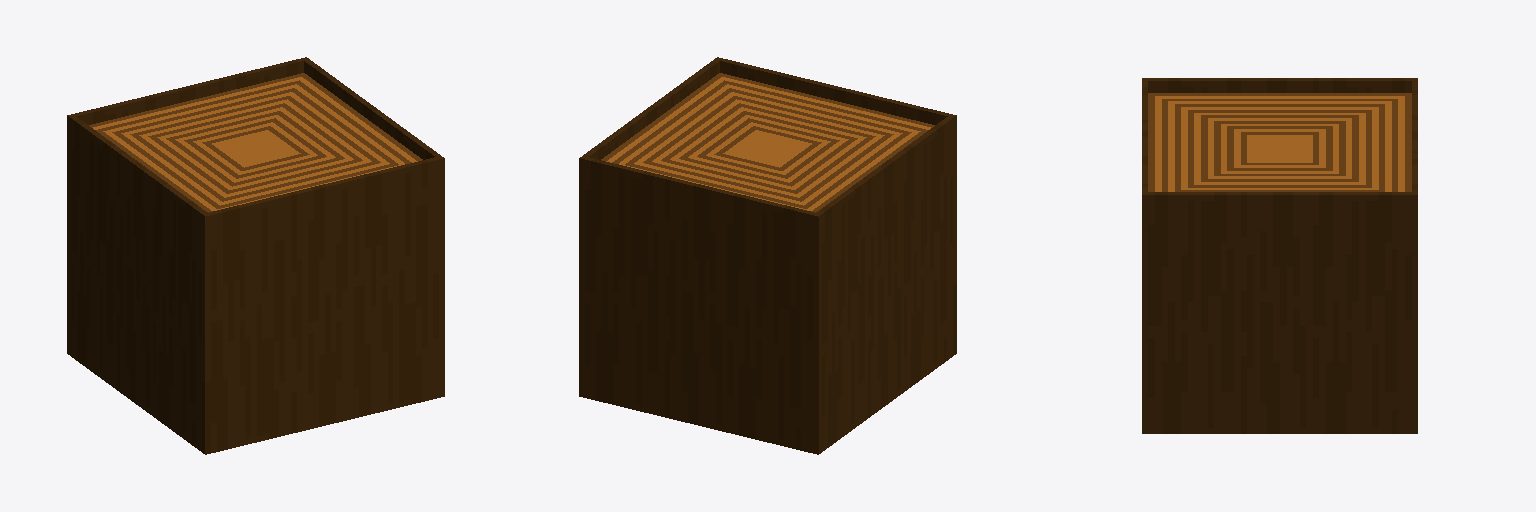
The picture shows the model from 3 angles: view 1: azimuth 30°, elevation 25°; view 2: azimuth 150°, elevation 25°; view 3: azimuth 270°, elevation 25°; orthographic projection.
Parts seen in each view (by area): view 1: forest_wall; view 2: forest_wall; view 3: forest_wall.
Boxes of the visible parts, <box> form: forest_wall: <box>67,57,444,454</box>; forest_wall: <box>579,57,956,454</box>; forest_wall: <box>1142,78,1417,433</box>.
Bounding box in the file's own units: 42 × 40 × 42.
Materials: 1 (1 with a texture image).